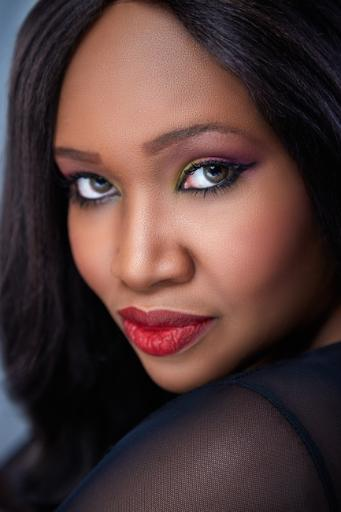left_eye: (176, 154, 265, 204)
left_lip_corner: (209, 310, 225, 331)
right_eye: (65, 170, 123, 210)
right_lip_corner: (113, 306, 130, 328)
